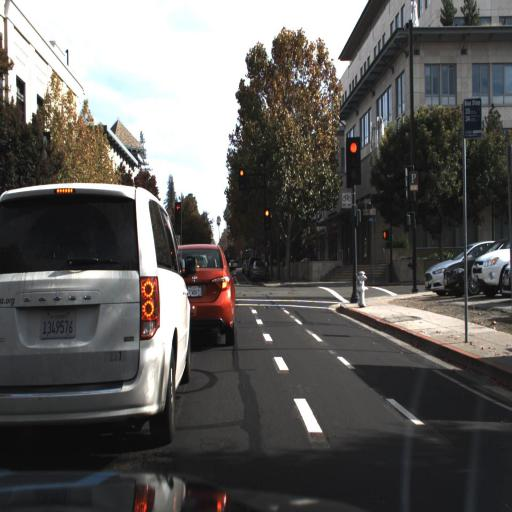car: (0, 178, 192, 452), (186, 239, 236, 349), (469, 244, 511, 298), (440, 257, 474, 296), (244, 254, 271, 286), (426, 263, 449, 297), (250, 259, 269, 281)
trafficLight-Red: (347, 136, 361, 187), (235, 165, 248, 196), (262, 205, 270, 233), (238, 167, 246, 191)
trafficLight-RedLeft: (174, 201, 182, 237), (172, 200, 183, 220)
